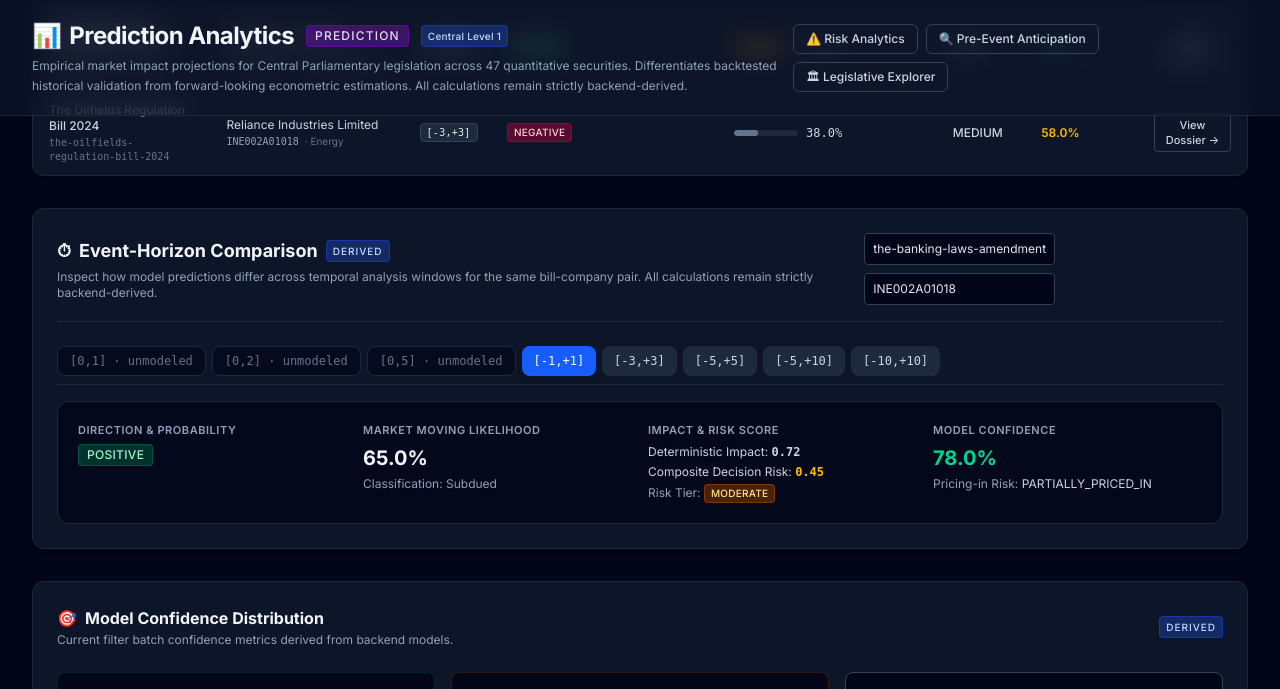
Scenario: Prediction Analytics Dashboard (/predictions) › renders event-horizon comparison panel and displays unmodeled note for unmodeled horizon
(page scrolled)
Expected: the heading "⏱ Event-Horizon Comparison" is shown, [57,237,318,265]
Click on unmodeled horizon [0,1]
Click the button "[0,1] · unmodeled": (131, 361) [57,346,206,376]
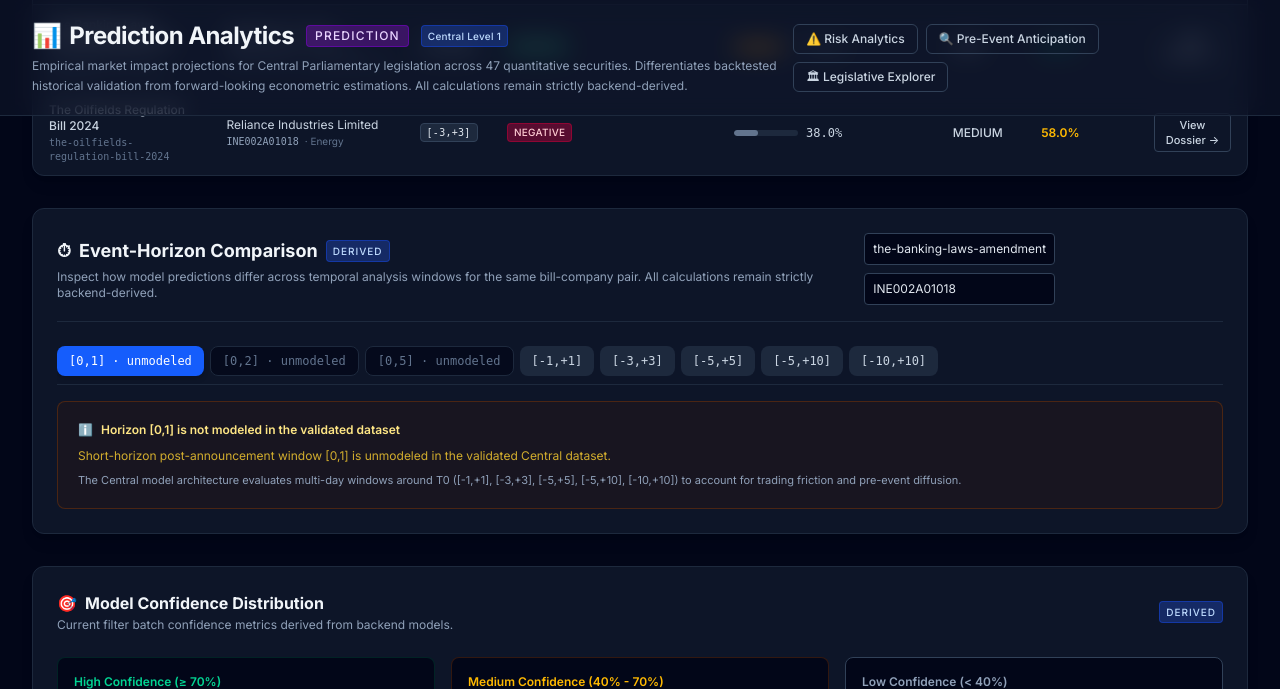
Expected: the text "ℹ️ Horizon [0,1] is not modeled in the validated dataset" is shown, [78,422,400,437]
